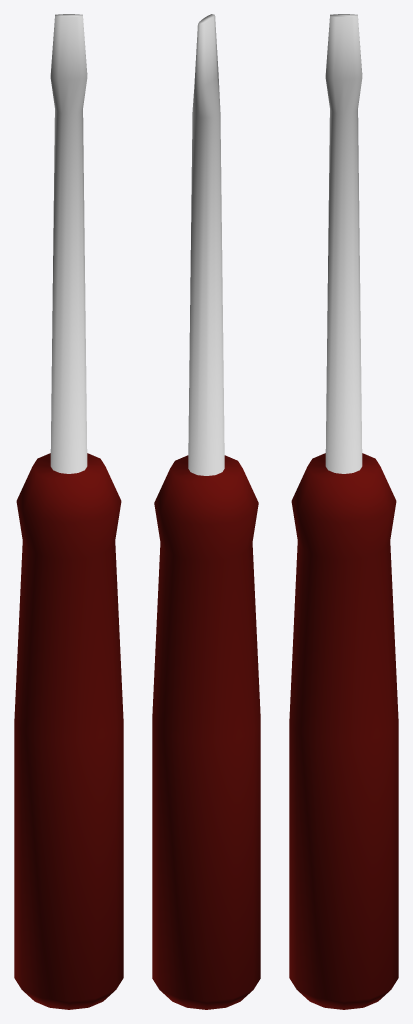
The model's file is screwdriver 1.fbx.
3 views of the same model, side by side, from view 1: azimuth 90°, elevation 25°; view 2: azimuth 150°, elevation 25°; view 3: azimuth 270°, elevation 25° (orthographic).
Visible parts, largest first — view 1: Cylinder.001; view 2: Cylinder.001; view 3: Cylinder.001.
Boxes of the visible parts, box(x1,y1,x2,y2) form: Cylinder.001: box(14, 14, 123, 1009); Cylinder.001: box(152, 14, 260, 1009); Cylinder.001: box(289, 14, 398, 1009).
Size of the model in its own units: 204 by 2022 by 204.
